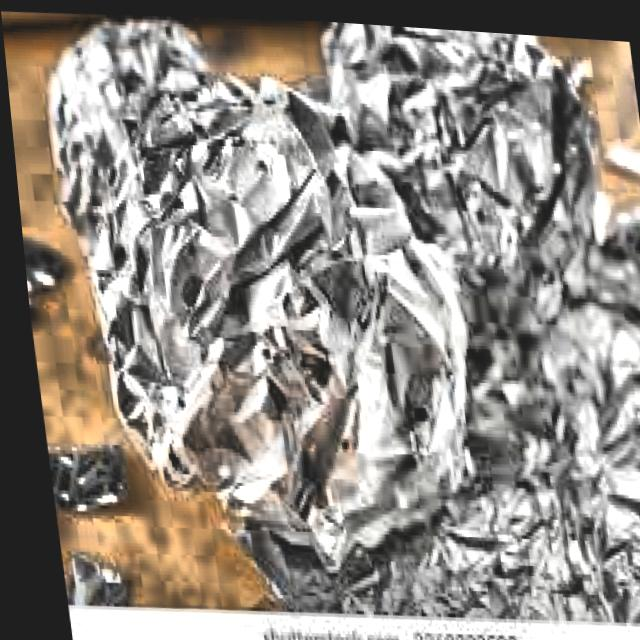Foil: (180, 102, 640, 631), (51, 54, 489, 552), (310, 16, 626, 323), (23, 4, 254, 266)
